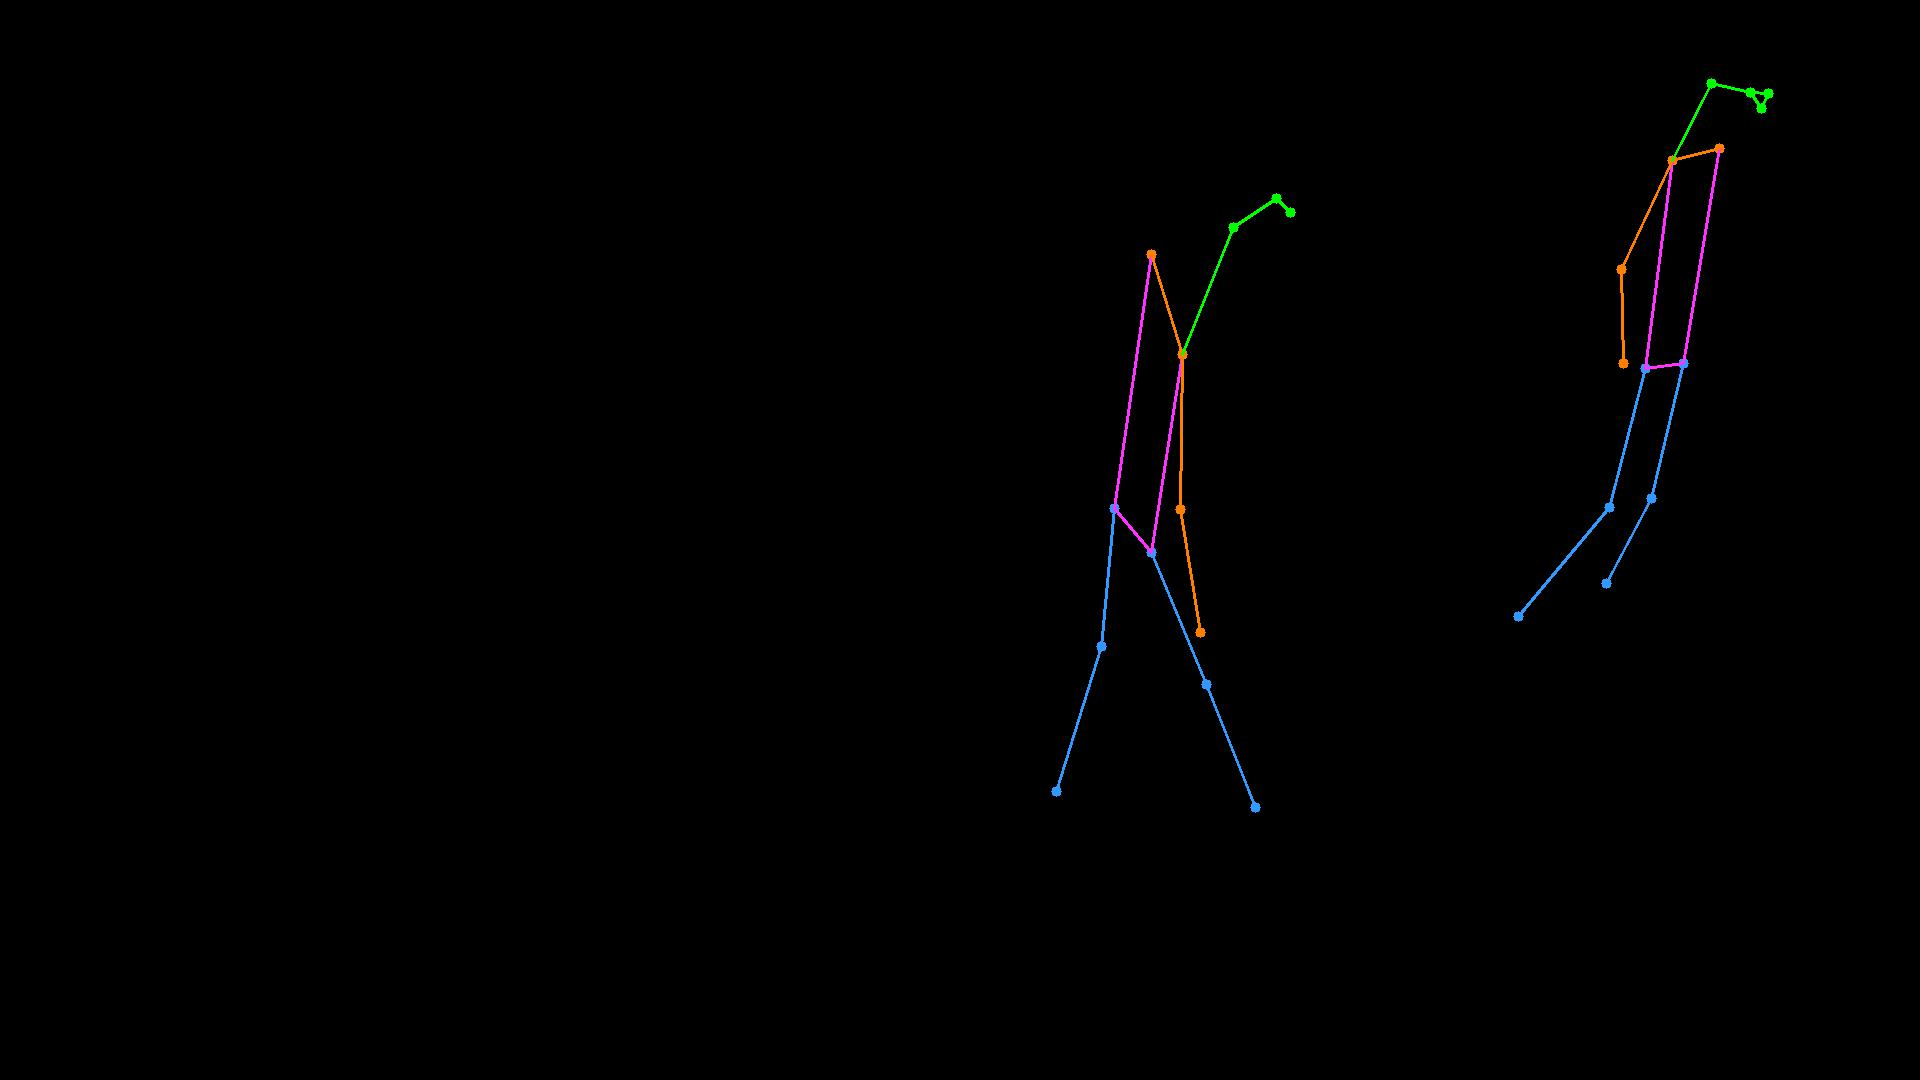normal: (986, 158, 1404, 843), (1431, 38, 1892, 653)
